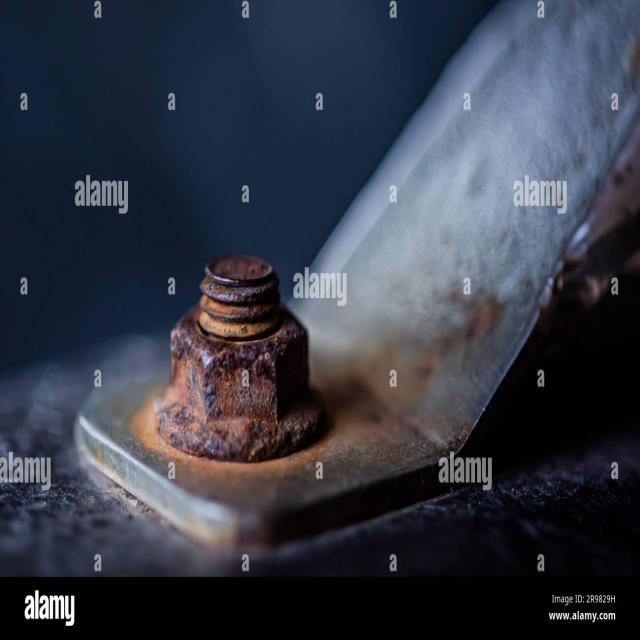Rusty bolt: (171, 296, 311, 434)
